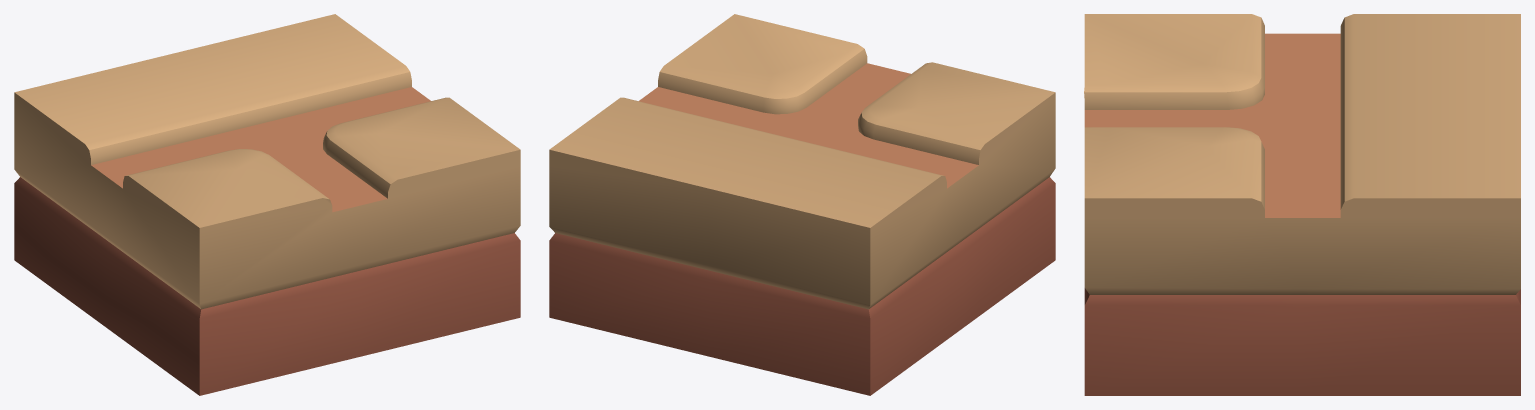
Rendered from kaykit-square-sand-roadd-detail.glb.
3 renders of one model, left to right at view 1: azimuth 30°, elevation 25°; view 2: azimuth 150°, elevation 25°; view 3: azimuth 270°, elevation 25°, orthographic. The views are drawn at different scales.
Parts seen in each view (by area): view 1: square_sand_roadD_detail; view 2: square_sand_roadD_detail; view 3: square_sand_roadD_detail.
Boxes of the visible parts, bbox=[...] form: square_sand_roadD_detail: bbox=[14, 14, 520, 395]; square_sand_roadD_detail: bbox=[549, 14, 1055, 395]; square_sand_roadD_detail: bbox=[1084, 14, 1520, 395].
Bounding box in the file's own units: 2 × 1 × 2.
